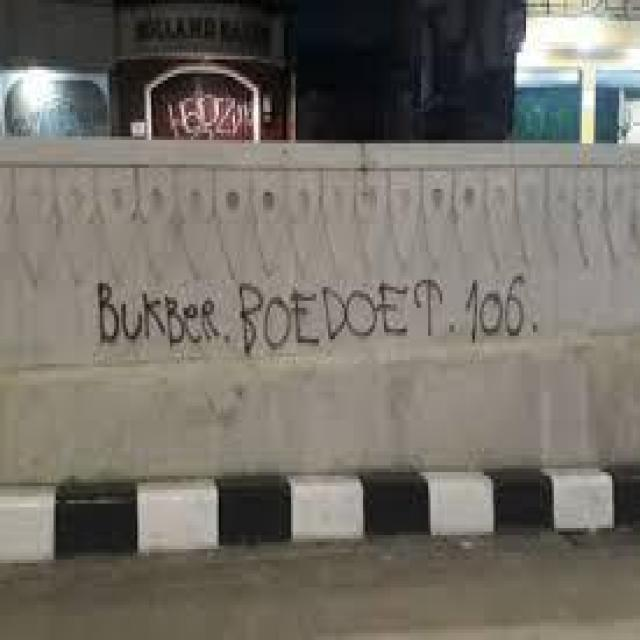nonspitting: (98, 276, 526, 356)
